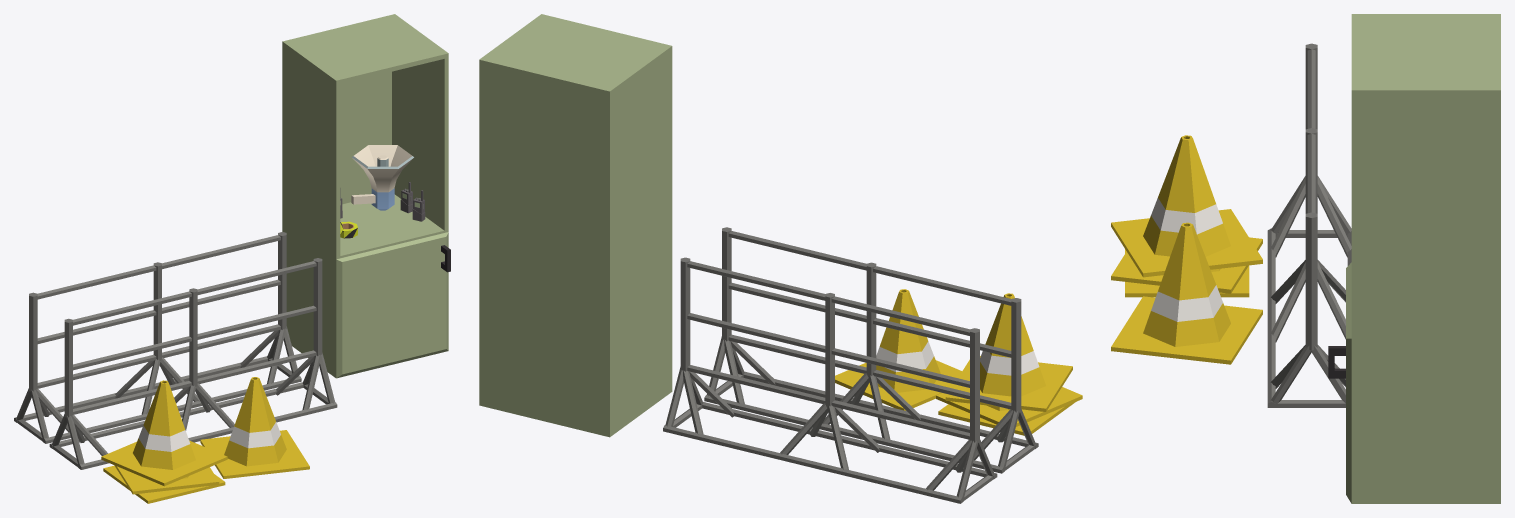
Rendered from g_o_BarricadesEquipmentStation.fbx.
The picture shows the model from 3 angles, left to right: view 1: azimuth 30°, elevation 25°; view 2: azimuth 150°, elevation 25°; view 3: azimuth 270°, elevation 25°; orthographic projection. The views are drawn at different scales.
Parts seen in each view (by area): view 1: crowd_control2; view 2: crowd_control2; view 3: crowd_control2.
Part boxes in pixels (x1=…): crowd_control2: x1=14, y1=14, x2=450, y2=503; crowd_control2: x1=479, y1=14, x2=1082, y2=503; crowd_control2: x1=1111, y1=14, x2=1500, y2=503.
Bounding box in the file's own units: 2.8 × 2.01 × 1.71.
